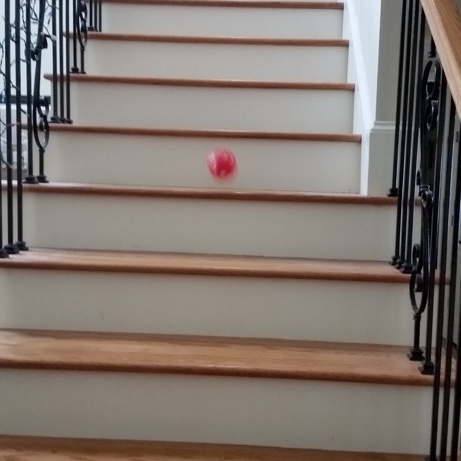ball: (204, 143, 239, 181)
